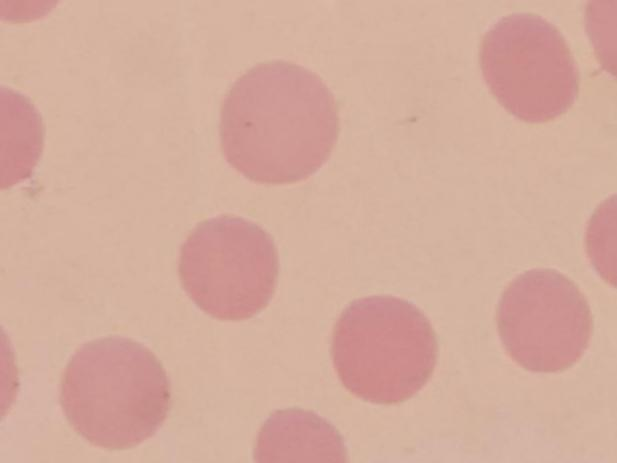Uninfected: (221, 60, 340, 186), (59, 333, 171, 447), (333, 290, 436, 407), (179, 215, 280, 322), (481, 13, 579, 123), (496, 264, 593, 373), (253, 403, 350, 463)
